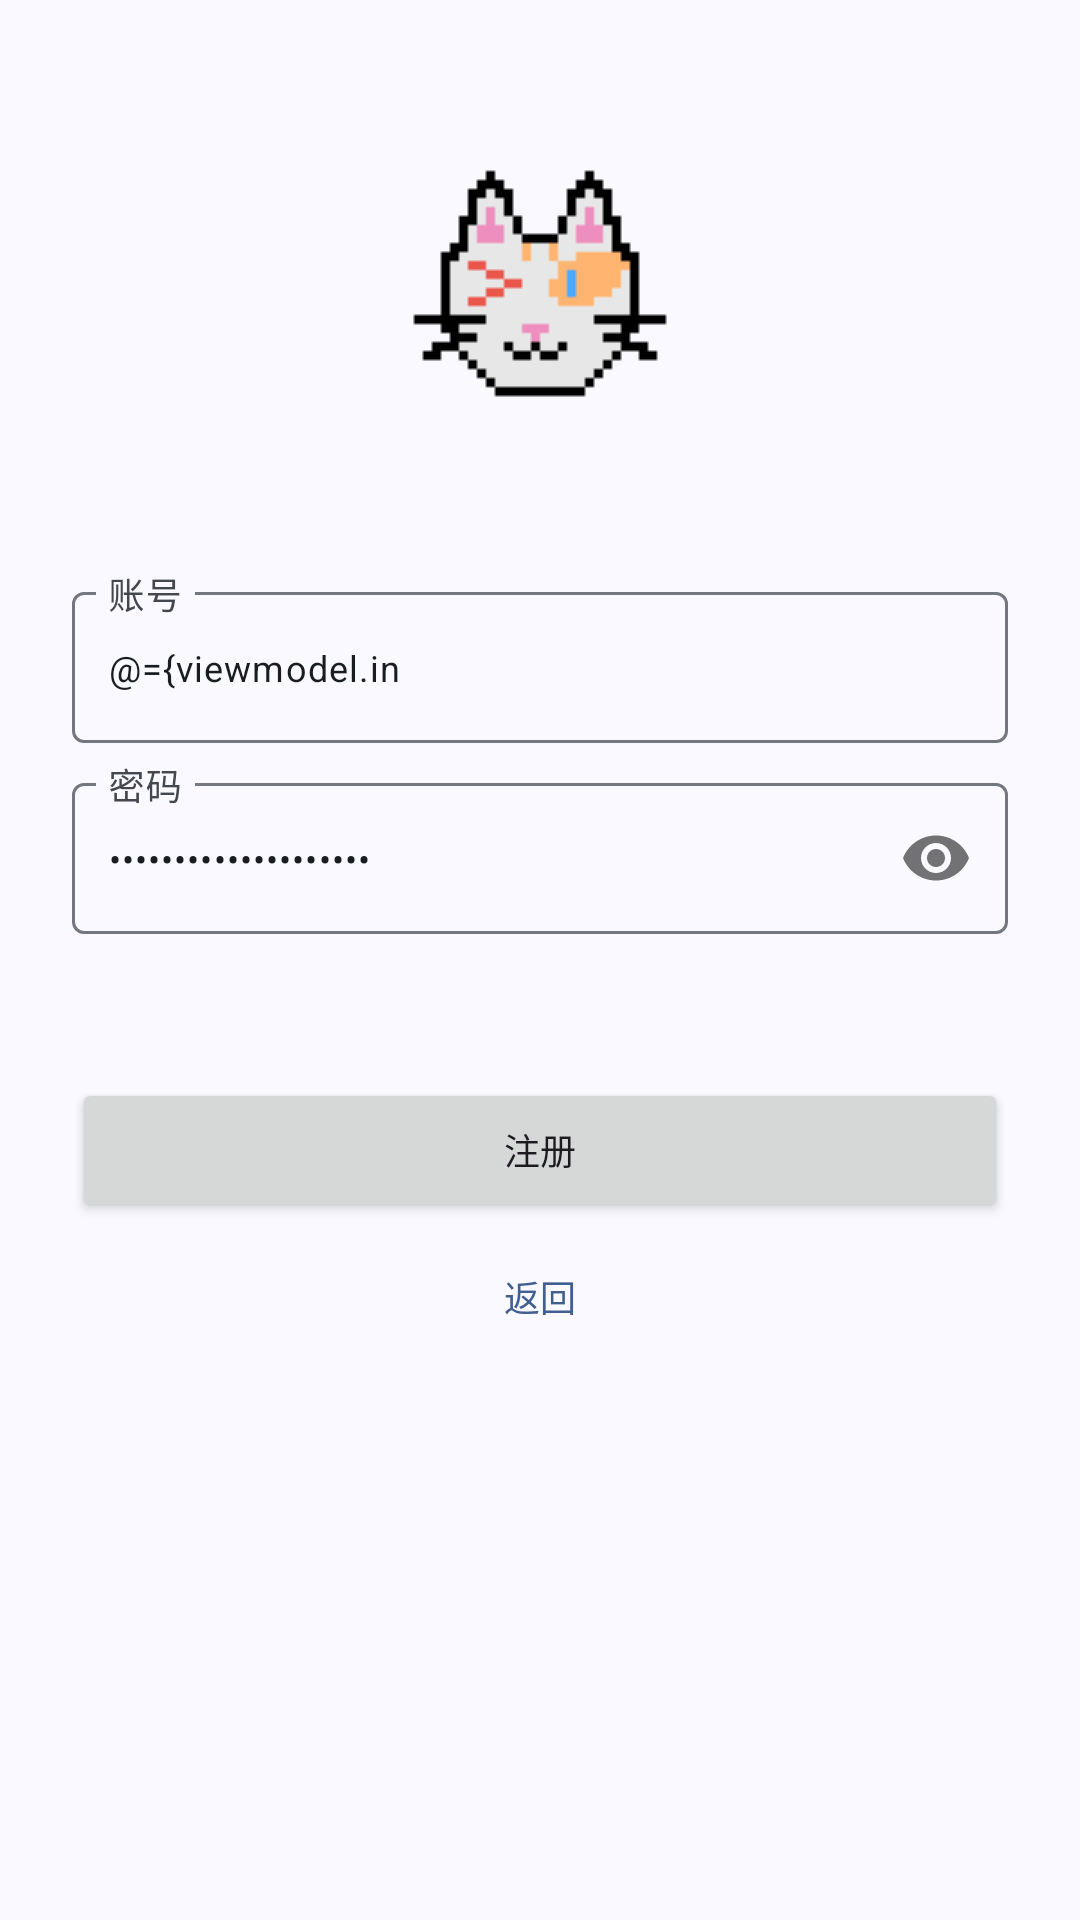

Where to tap for icons on this 1080w x 1920h app screen, as [x,y]:
cat: [540,283]
